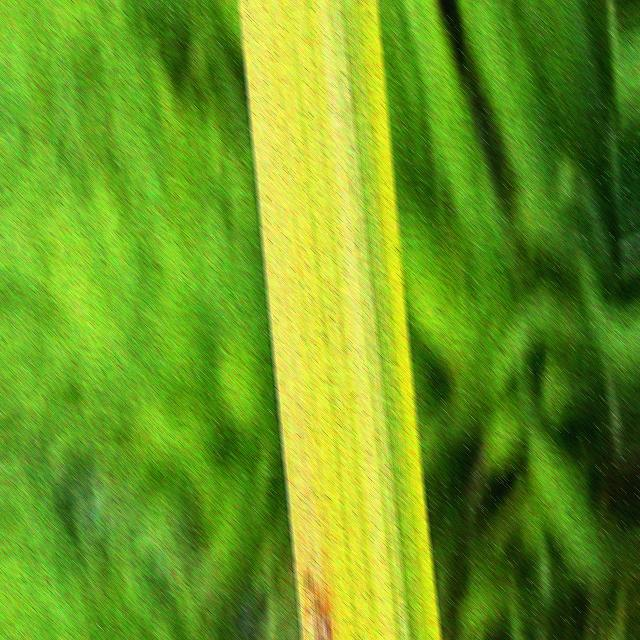LEAF BLAST: (312, 587, 331, 640)
